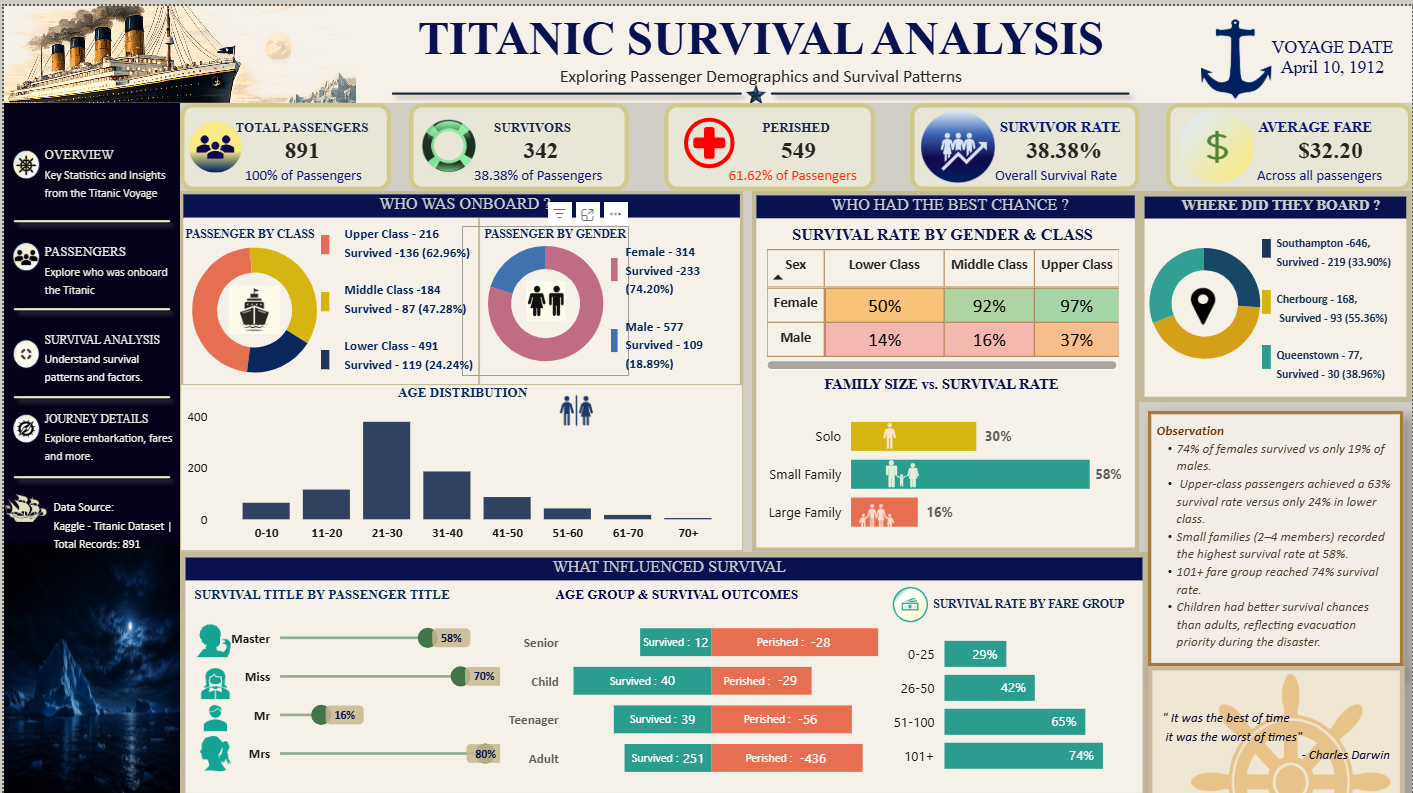

The page's visual inventory and layout, read from the dashboard file:
{"tool":"powerbi","page":{"name":"Titanic Overview","canvas":[1280,720],"ordinal":0},"visuals":[{"type":"group","id":"g1","title":"Group 1","box":[160,88,192,80],"z":0,"group":"g11"},{"type":"shape","box":[160,88,192,80],"z":0,"group":"g1"},{"type":"group","id":"g2","title":"Group 1","box":[368,88,200,80],"z":0,"group":"g12"},{"type":"shape","box":[368,88,200,80],"z":0,"group":"g2"},{"type":"group","id":"g3","title":"Group 1","box":[600,88,192,80],"z":0,"group":"g13"},{"type":"shape","box":[600,88,192,80],"z":0,"group":"g3"},{"type":"group","id":"g4","title":"Group 1","box":[824,88,208.8,80],"z":0,"group":"g14"},{"type":"shape","box":[824,88,208.8,80],"z":0,"group":"g4"},{"type":"group","id":"g5","title":"Group 1","box":[1056,88,224,80],"z":0,"group":"g15"},{"type":"shape","box":[1056,88,224,80],"z":0,"group":"g5"},{"type":"barChart","title":"FAMILY SIZE vs. SURVIVAL RATE","fields":{"Category":["Titanic_Dataset.FamilyGroup"],"Y":["Titanic_Dataset.Survival Rate"]},"box":[688,336,328,152],"z":0,"group":"g24"},{"type":"shape","title":"WHAT INFLUENCED SURVIVAL","box":[160,496,880,224],"z":0},{"type":"image","box":[168,95.3,48,65.5],"z":1000,"group":"g1"},{"type":"textbox","box":[198.3,95.3,145.5,29.1],"z":1000,"group":"g11"},{"type":"textbox","box":[424,95.3,112,29.1],"z":1000,"group":"g12"},{"type":"image","box":[608.3,95.3,66.8,58.2],"z":1000,"group":"g3"},{"type":"textbox","box":[648,95.3,144,29.1],"z":1000,"group":"g13"},{"type":"image","box":[832.7,95.3,69.6,65.5],"z":1000,"group":"g4"},{"type":"textbox","box":[881.6,95.3,158.4,29.1],"z":1000,"group":"g14"},{"type":"image","box":[1065.3,95.3,74.7,65.5],"z":1000,"group":"g5"},{"type":"textbox","box":[1120,95.3,144,29.1],"z":1000,"group":"g15"},{"type":"image","box":[376,102.5,56,50.9],"z":1000,"group":"g2"},{"type":"shape","box":[160,192,272,160],"z":1000},{"type":"image","box":[742.7,445.8,101.5,33.8],"z":1000,"group":"g24"},{"type":"shape","box":[432,192,240,160],"z":2000},{"type":"image","box":[742.7,412,148.4,25.3],"z":2000,"group":"g24"},{"type":"shape","title":"WHO WAS ONBOARD ?","box":[160,168,512,328],"z":3000},{"type":"image","box":[773.9,378.2,62.5,25.3],"z":3000,"group":"g24"},{"type":"shape","title":"WHO HAD THE BEST CHANCE ?","box":[680,168,352,328],"z":4000},{"type":"donutChart","title":"Passenger Distribution by Class","fields":{"Y":["Titanic_Dataset.Survival Rate"],"Category":["Titanic_Dataset.PClass Group"]},"box":[152,176,152,200],"z":4000,"group":"g16"},{"type":"shape","title":"WHERE DID THEY BOARD ?","box":[1032,168,248,192],"z":5000},{"type":"textbox","box":[160,192,192,32],"z":6000},{"type":"shape","box":[0,0,1280,88],"z":7000},{"type":"donutChart","title":"Survival Rate by Gender","fields":{"Category":["Titanic_Dataset.Sex"],"Y":["Titanic_Dataset.Survival Rate"]},"box":[416,200,152,136],"z":7000,"group":"g22"},{"type":"textbox","box":[280,0,816,88],"z":8000},{"type":"donutChart","fields":{"Category":["Titanic_Dataset.Embarked_Port"],"Y":["Titanic_Dataset.Survival Rate"]},"box":[1024,176,136,192],"z":8000,"group":"g23"},{"type":"shape","box":[0,88,160,632],"z":9000},{"type":"image","box":[0,0,320,88],"z":10000},{"type":"image","box":[0,488,160,232],"z":11000},{"type":"shape","box":[344,64,336,32],"z":12000},{"type":"image","box":[664,56,40,48],"z":13000},{"type":"image","box":[1088,8,64,80],"z":14000},{"type":"shape","box":[688,64,344,32],"z":15000},{"type":"textbox","box":[1144,24,128,48],"z":16000},{"type":"group","id":"g6","title":"Group 4","box":[160,88,192,80],"z":17000},{"type":"group","id":"g7","title":"Group 4","box":[368,88,200,80],"z":18000},{"type":"group","id":"g8","title":"Group 4","box":[600,88,192,80],"z":19000},{"type":"group","id":"g9","title":"Group 4","box":[824,88,216,80],"z":20000},{"type":"group","id":"g10","title":"Group 4","box":[1056,88,224,80],"z":21000},{"type":"textbox","box":[432,192,152,32],"z":22000},{"type":"columnChart","title":"AGE DISTRIBUTION","fields":{"Category":["Titanic_Dataset.Age Bin"],"Y":["Titanic_Dataset.Passenger Count"]},"box":[160,344,512,152],"z":23000},{"type":"textbox","box":[32,120,128,64],"z":24000},{"type":"textbox","box":[304,192,144,152],"z":24000,"group":"g26"},{"type":"textbox","box":[1152,200,120,152],"z":24000,"group":"g28"},{"type":"textbox","box":[32,208,128,72],"z":25000},{"type":"shape","box":[1144,211.6,8,17.4],"z":25000,"group":"g28"},{"type":"shape","box":[288,260.6,7.6,17.5],"z":25000,"group":"g26"},{"type":"textbox","box":[560,208,104,136],"z":26000,"group":"g27"},{"type":"textbox","box":[32,288,128,64],"z":26000},{"type":"shape","box":[1144,308.6,8,21.7],"z":26000,"group":"g28"},{"type":"shape","box":[552,229.3,6.1,21.3],"z":27000,"group":"g27"},{"type":"textbox","box":[32,360,128,64],"z":27000},{"type":"group","id":"g11","title":"Group 2","box":[160,88,192,80],"z":28000,"group":"g17"},{"type":"group","id":"g12","title":"Group 2","box":[368,88,200,80],"z":28000,"group":"g18"},{"type":"group","id":"g13","title":"Group 2","box":[600,88,192,80],"z":28000,"group":"g19"},{"type":"group","id":"g14","title":"Group 2","box":[824,88,216,80],"z":28000,"group":"g20"},{"type":"group","id":"g15","title":"Group 2","box":[1056,88,224,80],"z":28000,"group":"g21"},{"type":"group","id":"g16","title":"Group 5","box":[152,176,160,184],"z":28000},{"type":"shape","box":[552,293.3,6.1,21.3],"z":28000,"group":"g27"},{"type":"card","fields":{"Values":["Titanic_Dataset.Total Passengers"]},"box":[228.9,117.1,84.2,29.1],"z":28500,"group":"g17"},{"type":"card","fields":{"Values":["Sum(Titanic_Dataset.Survived)"]},"box":[448,117.1,80,29.1],"z":28500,"group":"g18"},{"type":"card","fields":{"Values":["Titanic_Dataset.Perished"]},"box":[676.8,117.1,92.2,29.1],"z":28500,"group":"g19"},{"type":"card","fields":{"Values":["Titanic_Dataset.Survival Rate"]},"box":[910.4,117.1,108,29.1],"z":28500,"group":"g20"},{"type":"card","fields":{"Values":["Titanic_Dataset.Average Fare"]},"box":[1149.3,117.1,112,29.1],"z":28500,"group":"g21"},{"type":"group","id":"g17","title":"Group 3","box":[160,88,192,80],"z":28501,"group":"g6"},{"type":"group","id":"g18","title":"Group 3","box":[368,88,200,80],"z":28501,"group":"g7"},{"type":"group","id":"g19","title":"Group 3","box":[600,88,192,80],"z":28501,"group":"g8"},{"type":"group","id":"g20","title":"Group 3","box":[824,88,216,80],"z":28501,"group":"g9"},{"type":"group","id":"g21","title":"Group 3","box":[1056,88,224,80],"z":28501,"group":"g10"},{"type":"group","id":"g22","title":"Group 6","box":[416,200,152,136],"z":29000},{"type":"textbox","box":[200,138.9,144,29.1],"z":29001,"group":"g6"},{"type":"textbox","box":[411.8,138.9,147.6,29.1],"z":29001,"group":"g7"},{"type":"textbox","box":[641.7,138.9,150.3,29.1],"z":29001,"group":"g8"},{"type":"textbox","box":[874.4,138.9,165.6,29.1],"z":29001,"group":"g9"},{"type":"textbox","box":[1120,138.9,152,29.1],"z":29001,"group":"g10"},{"type":"group","id":"g23","title":"Group 7","box":[1024,176,128,192],"z":30000},{"type":"image","box":[8,128,24,32],"z":31000},{"type":"shape","box":[0,184,160,24],"z":32000},{"type":"image","box":[204.9,248,46.3,56],"z":32000,"group":"g16"},{"type":"image","box":[8,208,24,40],"z":33000},{"type":"image","box":[473.9,237.8,36.2,60.4],"z":33000,"group":"g22"},{"type":"shape","box":[0,264,160,24],"z":34000},{"type":"shape","box":[0,344,160,24],"z":35000},{"type":"image","box":[8,296,24,40],"z":36000},{"type":"shape","box":[0,416,160,24],"z":37000},{"type":"image","box":[1065.1,245.3,51.4,54.5],"z":38000,"group":"g23"},{"type":"image","box":[8,368,24,32],"z":38000},{"type":"shape","box":[288,208,7.6,17.5],"z":39000,"group":"g26"},{"type":"textbox","box":[40,440,120,64],"z":39000},{"type":"shape","box":[288,313.1,7.6,17.5],"z":40000,"group":"g26"},{"type":"image","box":[0,440,40,32],"z":40000},{"type":"clusteredBarChart","title":"SURVIVAL TITLE BY PASSENGER TITLE ","fields":{"Category":["Titanic_Dataset.Title"],"Y":["Titanic_Dataset.blank2_","Titanic_Dataset.Survival Rate","Titanic_Dataset.blank1_"]},"box":[200,544,256,160],"z":41000},{"type":"group","id":"g24","title":"Group 8","box":[688,336,328,152],"z":42000},{"type":"group","id":"g25","title":"Group 9","box":[688,200,336,128],"z":43000},{"type":"group","id":"g26","title":"Group 10","box":[288,192,160,152],"z":44000},{"type":"group","id":"g27","title":"Group 11","box":[552,208,112,136],"z":45000},{"type":"group","id":"g28","title":"Group 12","box":[1144,200,128,152],"z":46000},{"type":"shape","box":[1144,257.9,8,21.7],"z":47000,"group":"g28"},{"type":"clusteredBarChart","title":"SURVIVAL RATE BY FARE GROUP","fields":{"Category":["Titanic_Dataset.Fare Group"],"Y":["Titanic_Dataset.Survival Rate"]},"box":[800,552,232,160],"z":47000},{"type":"image","box":[800,528,48,32],"z":48000},{"type":"image","box":[496,352,48,32],"z":49000},{"type":"image","box":[168,560,48,32],"z":50000},{"type":"image","box":[168,592,48,48],"z":51000},{"type":"image","box":[168,632,48,32],"z":52000},{"type":"pivotTable","title":"SURVIVAL RATE BY GENDER & CLASS","fields":{"Values":["Titanic_Dataset.Survival Rate"],"Columns":["Titanic_Dataset.PClass Group"],"Rows":["Titanic_Dataset.Sex"]},"box":[688,200,336,136],"z":53000,"group":"g25"},{"type":"image","box":[168,664,48,32],"z":53000},{"type":"textbox","box":[824,528,200,32],"z":54000},{"type":"textbox","box":[1040,368,232,232],"z":55000},{"type":"group","id":"g29","title":"Group 13","box":[1040,600,240,120],"z":56000},{"type":"shape","box":[1040,600,232.5,120],"z":56000,"group":"g29"},{"type":"hundredPercentStackedBarChart","title":"AGE GROUP & SURVIVAL OUTCOMES","fields":{"Category":["Titanic_Dataset.AgeGroup"],"Y":["Titanic_Dataset.Perished Negative","Titanic_Dataset.Survived Count"]},"box":[456,544,360,168],"z":57000},{"type":"image","box":[1063.2,607.5,216.8,112.5],"z":57000,"group":"g29"},{"type":"textbox","box":[472,520,280,32],"z":58000},{"type":"textbox","box":[1047.7,632,216.8,72],"z":58000,"group":"g29"},{"type":"textbox","box":[168,520,272,32],"z":59000}]}

Visuals, with their boxes in screenshot pixels (x1, y1, x2, y2), scaled from the page's 1280x720 canvas onto the 1413x793 screenshot:
"Group 1" group: rect(177, 97, 389, 185)
shape: rect(177, 97, 389, 185)
"Group 1" group: rect(406, 97, 627, 185)
shape: rect(406, 97, 627, 185)
"Group 1" group: rect(662, 97, 874, 185)
shape: rect(662, 97, 874, 185)
"Group 1" group: rect(910, 97, 1140, 185)
shape: rect(910, 97, 1140, 185)
"Group 1" group: rect(1166, 97, 1412, 185)
shape: rect(1166, 97, 1412, 185)
"FAMILY SIZE vs. SURVIVAL RATE" barChart: rect(759, 370, 1122, 537)
"WHAT INFLUENCED SURVIVAL" shape: rect(177, 546, 1148, 792)
image: rect(185, 105, 238, 177)
textbox: rect(219, 105, 380, 137)
textbox: rect(468, 105, 592, 137)
image: rect(672, 105, 745, 169)
textbox: rect(715, 105, 874, 137)
image: rect(919, 105, 996, 177)
textbox: rect(973, 105, 1148, 137)
image: rect(1176, 105, 1258, 177)
textbox: rect(1236, 105, 1395, 137)
image: rect(415, 113, 477, 169)
shape: rect(177, 211, 477, 388)
image: rect(820, 491, 932, 528)
shape: rect(477, 211, 742, 388)
image: rect(820, 454, 984, 482)
"WHO WAS ONBOARD ?" shape: rect(177, 185, 742, 546)
image: rect(854, 417, 923, 444)
"WHO HAD THE BEST CHANCE ?" shape: rect(751, 185, 1139, 546)
"Passenger Distribution by Class" donutChart: rect(168, 194, 336, 414)
"WHERE DID THEY BOARD ?" shape: rect(1139, 185, 1412, 397)
textbox: rect(177, 211, 389, 247)
shape: rect(0, 0, 1412, 97)
"Survival Rate by Gender" donutChart: rect(459, 220, 627, 370)
textbox: rect(309, 0, 1210, 97)
donutChart - Titanic_Dataset.Embarked_Port x Titanic_Dataset.Survival Rate: rect(1130, 194, 1281, 405)
shape: rect(0, 97, 177, 792)
image: rect(0, 0, 353, 97)
image: rect(0, 537, 177, 792)
shape: rect(380, 70, 751, 106)
image: rect(733, 62, 777, 115)
image: rect(1201, 9, 1272, 97)
shape: rect(759, 70, 1139, 106)
textbox: rect(1263, 26, 1404, 79)
"Group 4" group: rect(177, 97, 389, 185)
"Group 4" group: rect(406, 97, 627, 185)
"Group 4" group: rect(662, 97, 874, 185)
"Group 4" group: rect(910, 97, 1148, 185)
"Group 4" group: rect(1166, 97, 1412, 185)
textbox: rect(477, 211, 645, 247)
"AGE DISTRIBUTION" columnChart: rect(177, 379, 742, 546)
textbox: rect(35, 132, 177, 203)
textbox: rect(336, 211, 495, 379)
textbox: rect(1272, 220, 1404, 388)
textbox: rect(35, 229, 177, 308)
shape: rect(1263, 233, 1272, 252)
shape: rect(318, 287, 326, 306)
textbox: rect(618, 229, 733, 379)
textbox: rect(35, 317, 177, 388)
shape: rect(1263, 340, 1272, 364)
shape: rect(609, 253, 616, 276)
textbox: rect(35, 397, 177, 467)
"Group 2" group: rect(177, 97, 389, 185)
"Group 2" group: rect(406, 97, 627, 185)
"Group 2" group: rect(662, 97, 874, 185)
"Group 2" group: rect(910, 97, 1148, 185)
"Group 2" group: rect(1166, 97, 1412, 185)
"Group 5" group: rect(168, 194, 344, 397)
shape: rect(609, 323, 616, 346)
card - Titanic_Dataset.Total Passengers: rect(253, 129, 346, 161)
card - Sum(Titanic_Dataset.Survived): rect(495, 129, 583, 161)
card - Titanic_Dataset.Perished: rect(747, 129, 849, 161)
card - Titanic_Dataset.Survival Rate: rect(1005, 129, 1124, 161)
card - Titanic_Dataset.Average Fare: rect(1269, 129, 1392, 161)
"Group 3" group: rect(177, 97, 389, 185)
"Group 3" group: rect(406, 97, 627, 185)
"Group 3" group: rect(662, 97, 874, 185)
"Group 3" group: rect(910, 97, 1148, 185)
"Group 3" group: rect(1166, 97, 1412, 185)
"Group 6" group: rect(459, 220, 627, 370)
textbox: rect(221, 153, 380, 185)
textbox: rect(455, 153, 618, 185)
textbox: rect(708, 153, 874, 185)
textbox: rect(965, 153, 1148, 185)
textbox: rect(1236, 153, 1404, 185)
"Group 7" group: rect(1130, 194, 1272, 405)
image: rect(9, 141, 35, 176)
shape: rect(0, 203, 177, 229)
image: rect(226, 273, 277, 335)
image: rect(9, 229, 35, 273)
image: rect(523, 262, 563, 328)
shape: rect(0, 291, 177, 317)
shape: rect(0, 379, 177, 405)
image: rect(9, 326, 35, 370)
shape: rect(0, 458, 177, 485)
image: rect(1176, 270, 1233, 330)
image: rect(9, 405, 35, 441)
shape: rect(318, 229, 326, 248)
textbox: rect(44, 485, 177, 555)
shape: rect(318, 345, 326, 364)
image: rect(0, 485, 44, 520)
"SURVIVAL TITLE BY PASSENGER TITLE " clusteredBarChart: rect(221, 599, 503, 775)
"Group 8" group: rect(759, 370, 1122, 537)
"Group 9" group: rect(759, 220, 1130, 361)
"Group 10" group: rect(318, 211, 495, 379)
"Group 11" group: rect(609, 229, 733, 379)
"Group 12" group: rect(1263, 220, 1404, 388)
shape: rect(1263, 284, 1272, 308)
"SURVIVAL RATE BY FARE GROUP" clusteredBarChart: rect(883, 608, 1139, 784)
image: rect(883, 582, 936, 617)
image: rect(548, 388, 601, 423)
image: rect(185, 617, 238, 652)
image: rect(185, 652, 238, 705)
image: rect(185, 696, 238, 731)
"SURVIVAL RATE BY GENDER & CLASS" pivotTable: rect(759, 220, 1130, 370)
image: rect(185, 731, 238, 767)
textbox: rect(910, 582, 1130, 617)
textbox: rect(1148, 405, 1404, 661)
"Group 13" group: rect(1148, 661, 1412, 792)
shape: rect(1148, 661, 1405, 792)
"AGE GROUP & SURVIVAL OUTCOMES" hundredPercentStackedBarChart: rect(503, 599, 901, 784)
image: rect(1174, 669, 1412, 792)
textbox: rect(521, 573, 830, 608)
textbox: rect(1157, 696, 1396, 775)
textbox: rect(185, 573, 486, 608)
